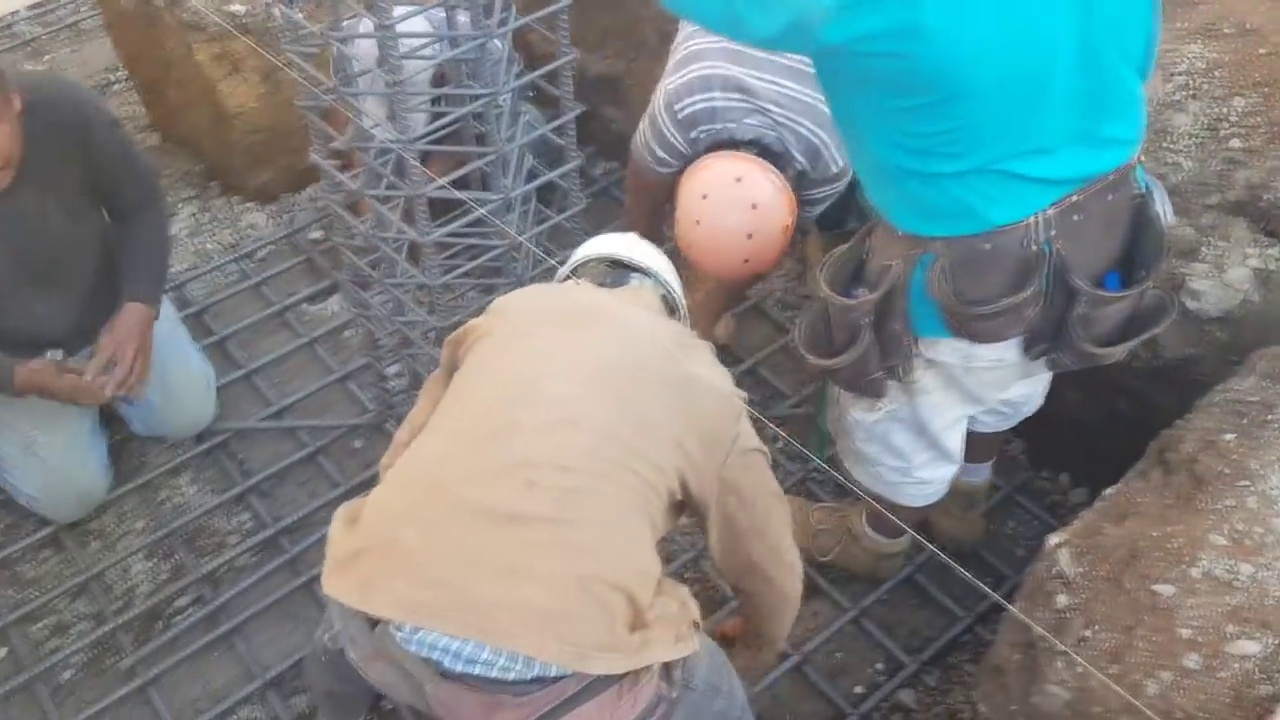helmet: (674, 145, 802, 285), (552, 236, 690, 311)
helmet-off: (325, 2, 451, 163)
helmet-on: (675, 128, 813, 288), (547, 237, 699, 333)
person: (646, 0, 1165, 564), (310, 236, 835, 720), (0, 68, 208, 534), (621, 22, 853, 326), (319, 1, 558, 233)
